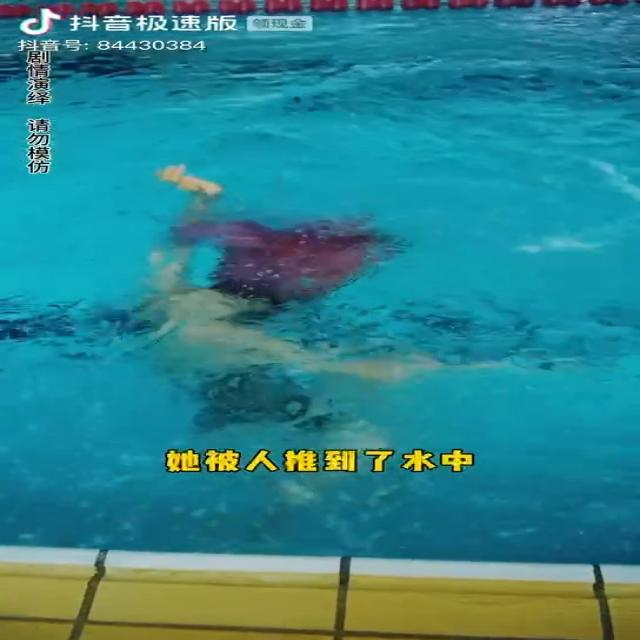Drowning: (140, 152, 482, 432)
